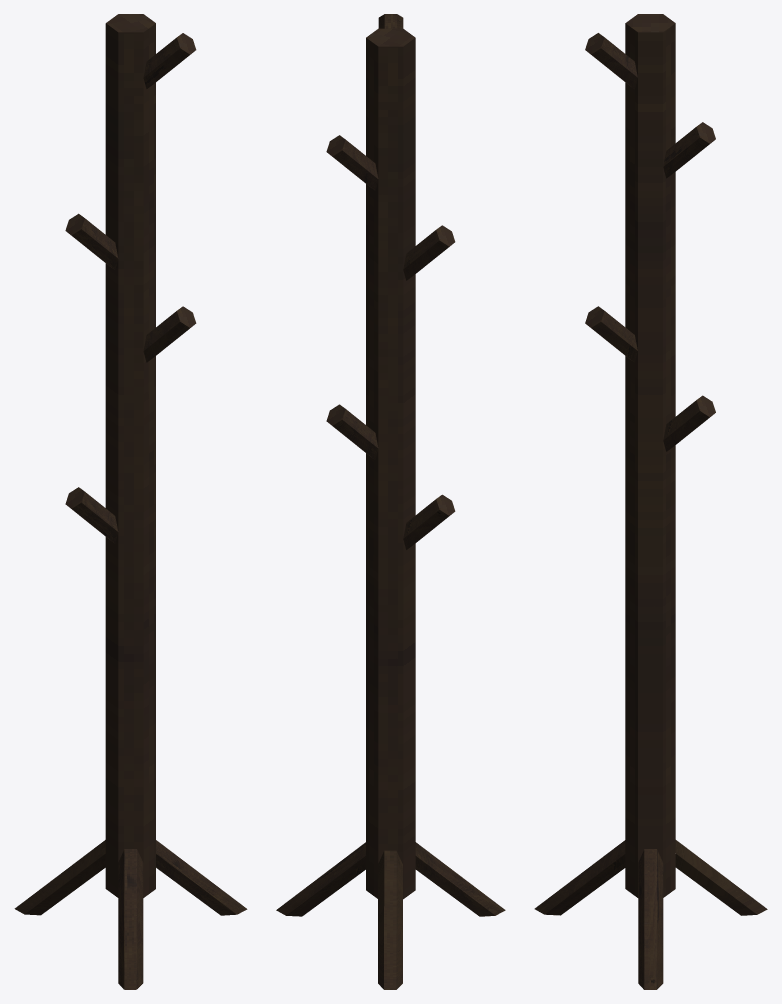
Rendered from object_coatrack_empty.glb.
3 renders of one model, left to right at view 1: azimuth 30°, elevation 25°; view 2: azimuth 150°, elevation 25°; view 3: azimuth 270°, elevation 25°, orthographic.
Visible parts, largest first — view 1: Coatrack_empty; view 2: Coatrack_empty; view 3: Coatrack_empty.
Boxes of the visible parts, bbox=[...] form: Coatrack_empty: bbox=[14, 14, 247, 989]; Coatrack_empty: bbox=[276, 14, 505, 989]; Coatrack_empty: bbox=[534, 14, 767, 989].
Bounding box in the file's own units: 0.404 × 2 × 0.4648.
1 material, 1 textured.
